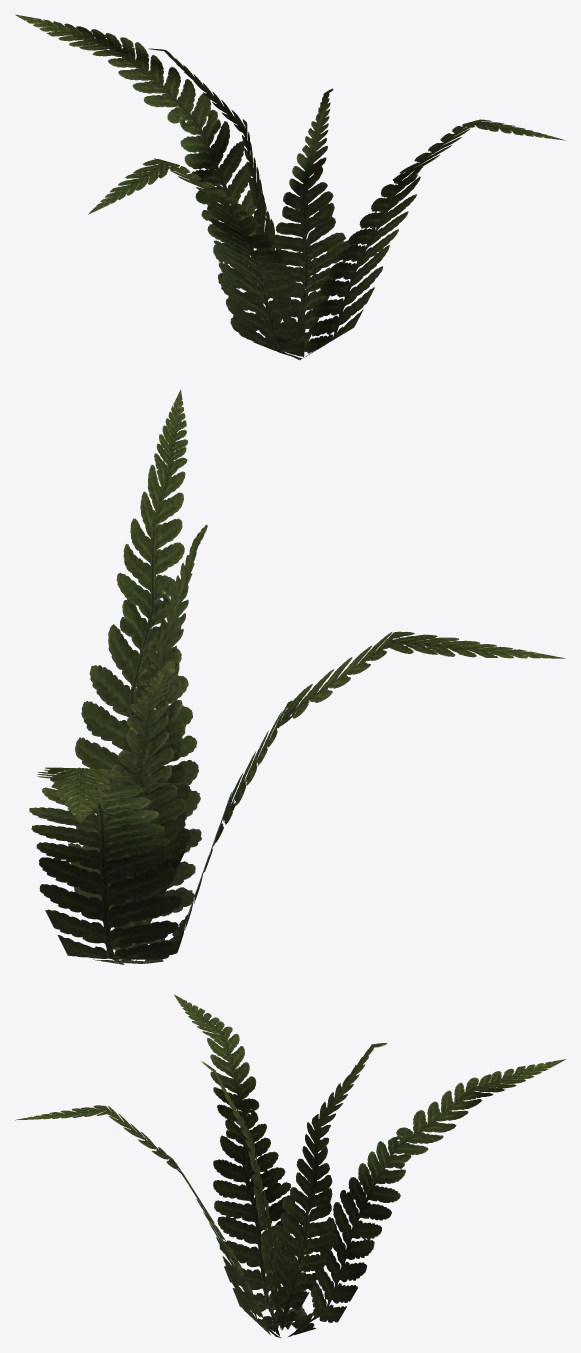
Rendered from GS_NATURE_PLANT_08.glb.
The picture shows the model from 3 angles, top to bottom: view 1: azimuth 30°, elevation 25°; view 2: azimuth 150°, elevation 25°; view 3: azimuth 270°, elevation 25°; orthographic projection. The views are drawn at different scales.
Parts seen in each view (by area): view 1: Mesh; view 2: Mesh; view 3: Mesh.
Boxes of the visible parts, left/top/right/bottom form: Mesh: left=15, top=14, right=565, bottom=360; Mesh: left=29, top=389, right=565, bottom=964; Mesh: left=15, top=994, right=565, bottom=1338.
Size of the model in its own units: 3.2 by 2.67 by 4.5.
Materials: 1 (1 with a texture image).
